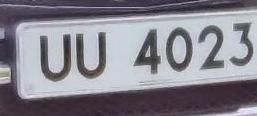0: (163, 21, 197, 78)
2: (193, 17, 228, 76)
3: (226, 16, 255, 70)
4: (129, 22, 166, 82)
U: (72, 27, 114, 85), (35, 29, 76, 85)
